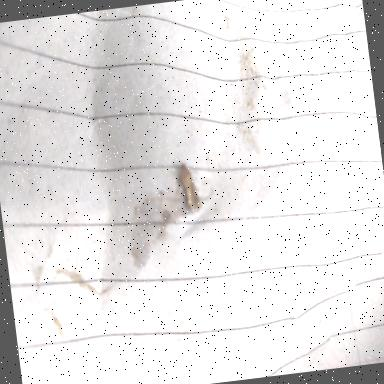pbw: (176, 162, 201, 216)
